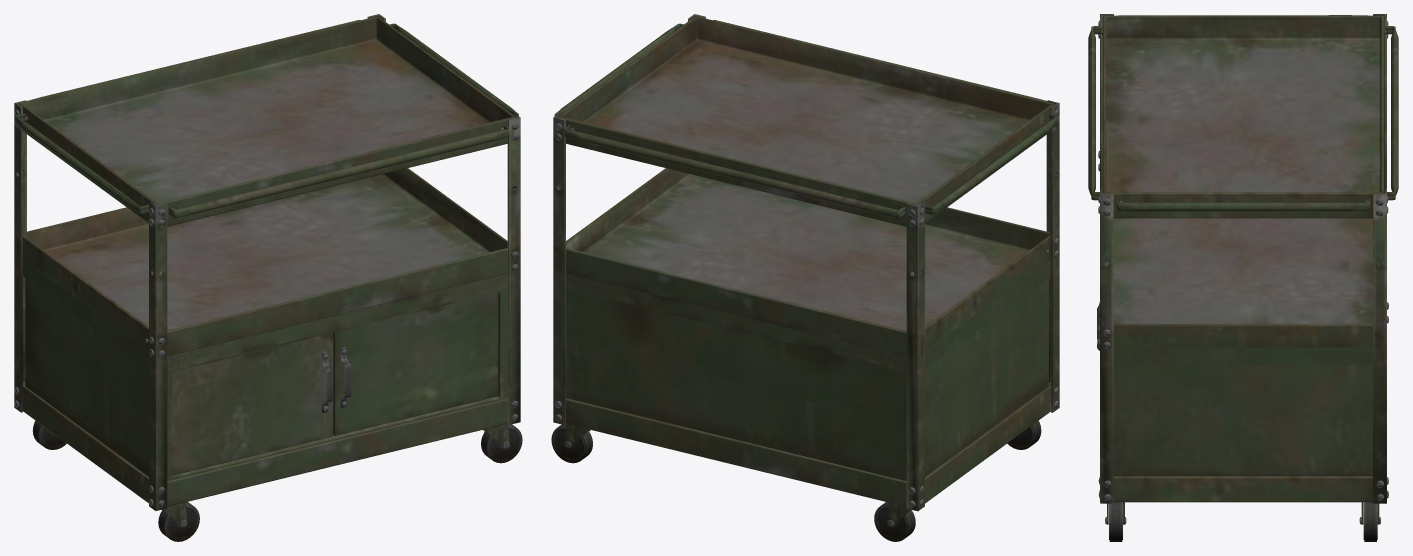
Rendered from laundry_cart.glb.
3 views of the same model, side by side, from view 1: azimuth 30°, elevation 25°; view 2: azimuth 150°, elevation 25°; view 3: azimuth 270°, elevation 25° (orthographic).
Visible parts, largest first — view 1: industrial_storage_cart; view 2: industrial_storage_cart; view 3: industrial_storage_cart.
Part boxes in pixels (bbox=[...]): industrial_storage_cart: bbox=[14, 14, 522, 541]; industrial_storage_cart: bbox=[551, 14, 1059, 541]; industrial_storage_cart: bbox=[1088, 14, 1398, 541].
Bounding box in the file's own units: 1.6 × 1.38 × 1.1.
Materials: 1 (1 with a texture image).
